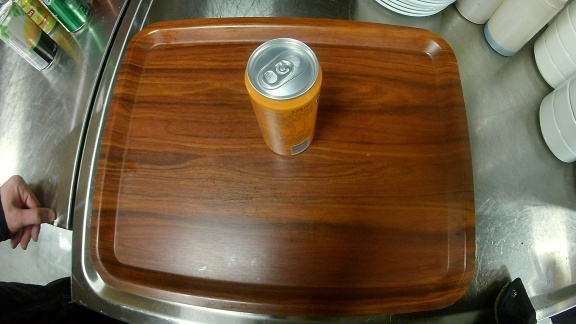kutufanta: (242, 34, 323, 160)
